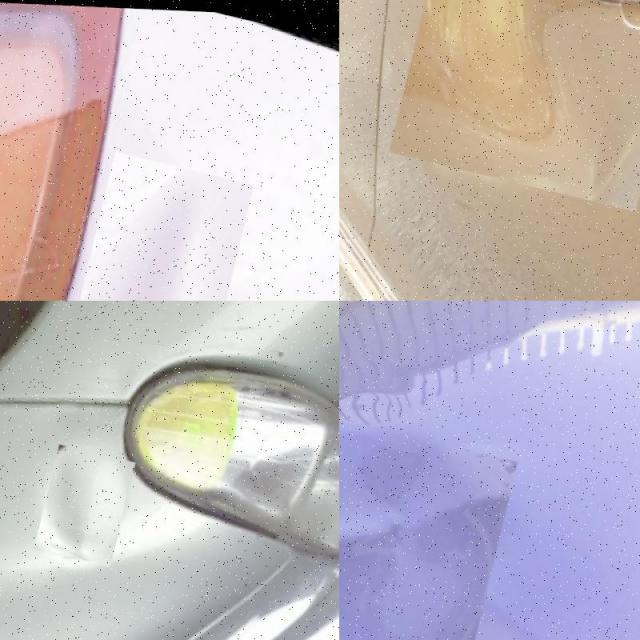car damage: (393, 0, 640, 220), (105, 166, 251, 300), (30, 432, 133, 576)
